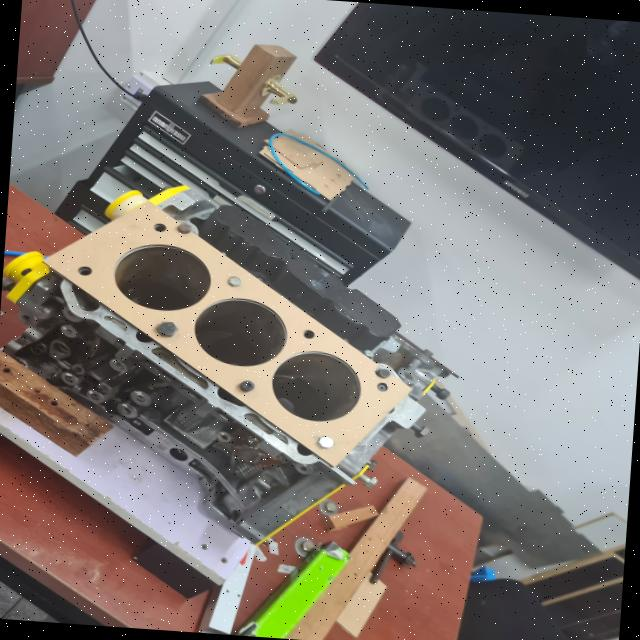tor_v1: (41, 200, 413, 467)
